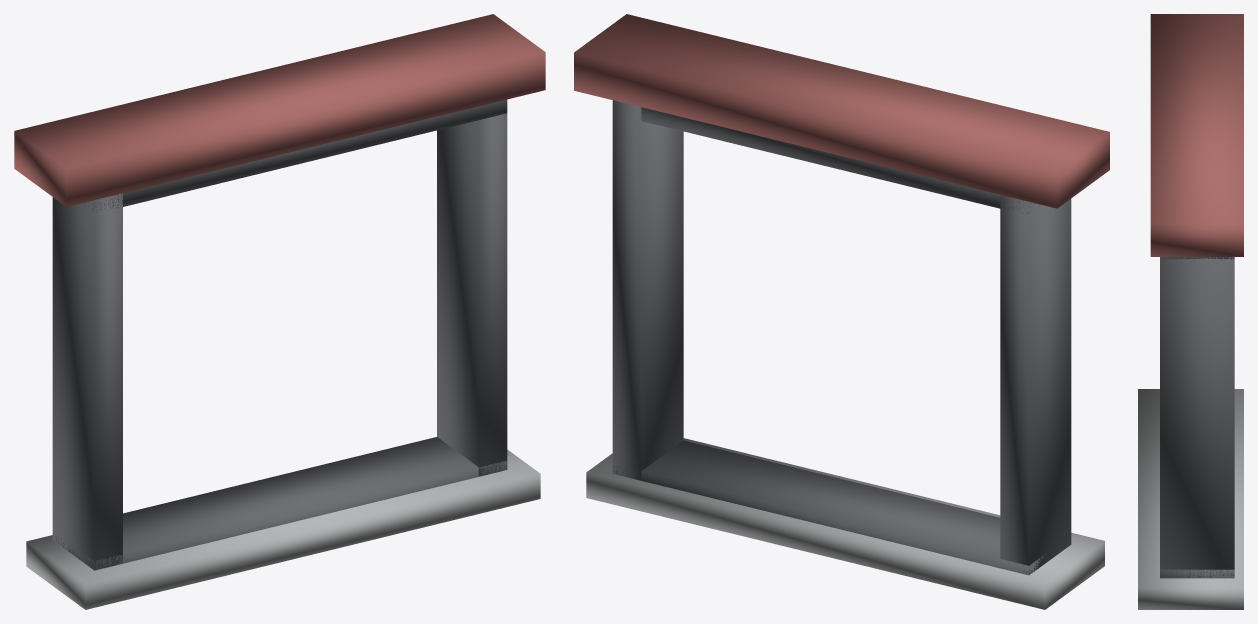
The model's file is egress_window_brick_w118_h110_s55_d24.glb.
3 renders of one model, left to right at view 1: azimuth 30°, elevation 25°; view 2: azimuth 150°, elevation 25°; view 3: azimuth 270°, elevation 25°, orthographic. The views are drawn at different scales.
Visible parts, largest first — view 1: world; view 2: world; view 3: world.
Part boxes in pixels (x1,y1,x2,y2): world: (14,14,545,609); world: (574,14,1109,609); world: (1138,14,1243,609).
Size of the model in its own units: 1.59 by 1.39 by 0.34.
